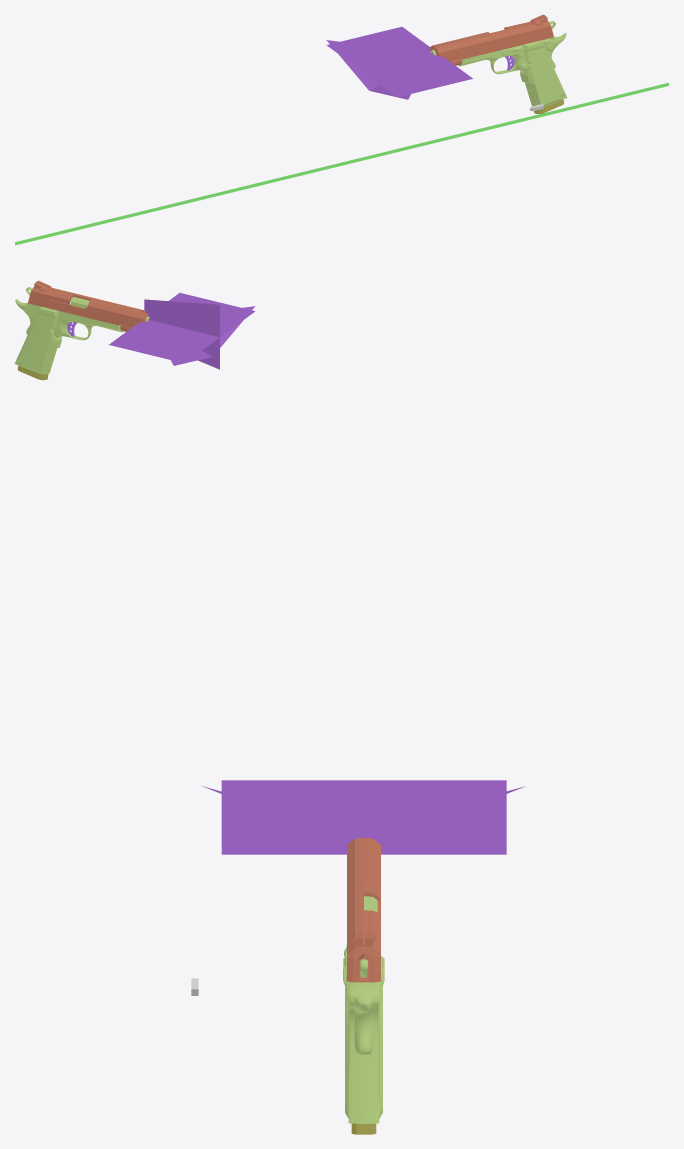
3 renders of one model, top to bottom at view 1: azimuth 30°, elevation 25°; view 2: azimuth 150°, elevation 25°; view 3: azimuth 270°, elevation 25°, orthographic. The views are drawn at different scales.
Visible parts, largest first — view 1: entity_12, entity_8, entity_2, entity_10; view 2: entity_12, entity_8, entity_10; view 3: entity_12, entity_8, entity_10.
Boxes of the visible parts, x1=… form: entity_12: x1=326, y1=26, x2=472, y2=99; entity_8: x1=430, y1=21, x2=567, y2=106; entity_2: x1=15, y1=82, x2=668, y2=245; entity_10: x1=430, y1=14, x2=553, y2=65; entity_12: x1=109, y1=293, x2=255, y2=369; entity_8: x1=14, y1=287, x2=149, y2=374; entity_10: x1=28, y1=280, x2=147, y2=331; entity_12: x1=202, y1=780, x2=525, y2=854; entity_8: x1=343, y1=896, x2=384, y2=1123; entity_10: x1=347, y1=837, x2=380, y2=982.
Bounding box in the file's own units: 9.03 × 1.54 × 2.22.
